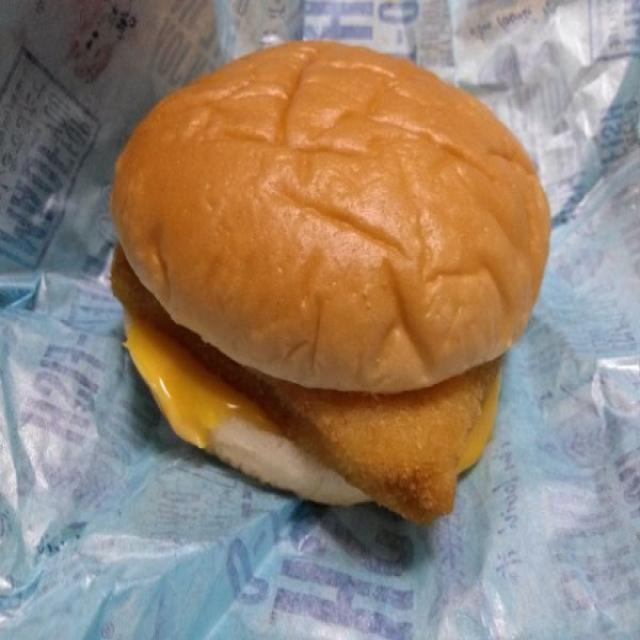Hamburger: (103, 29, 568, 535)
